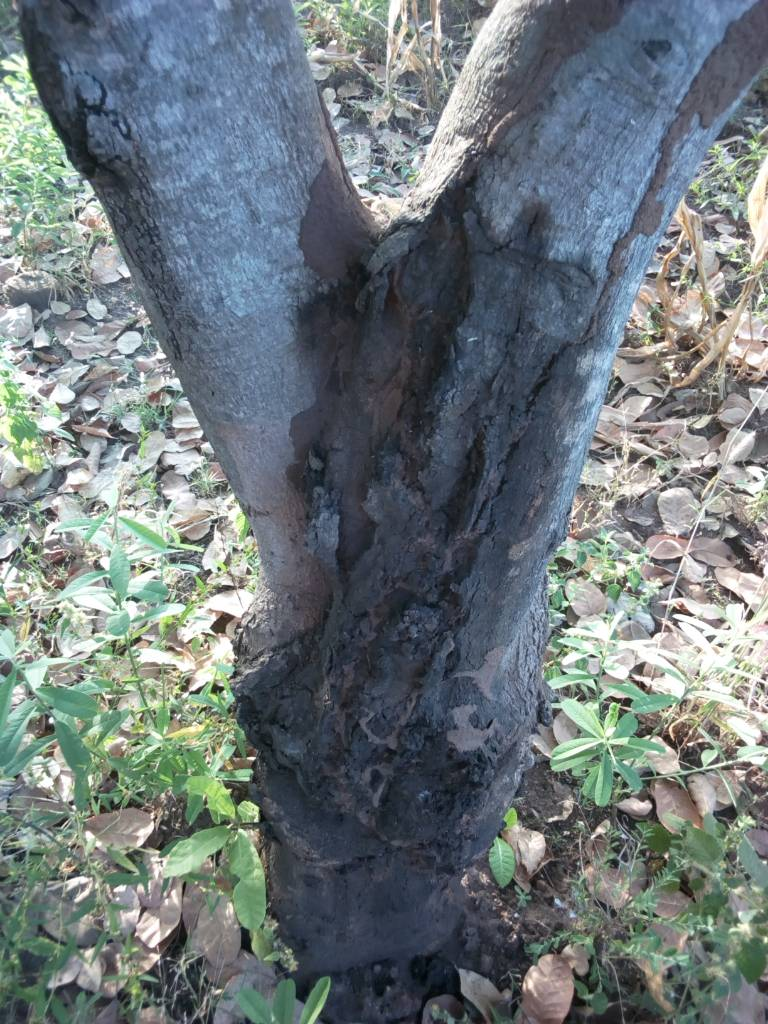ploceadorus ferrugineus: (166, 190, 663, 871)
